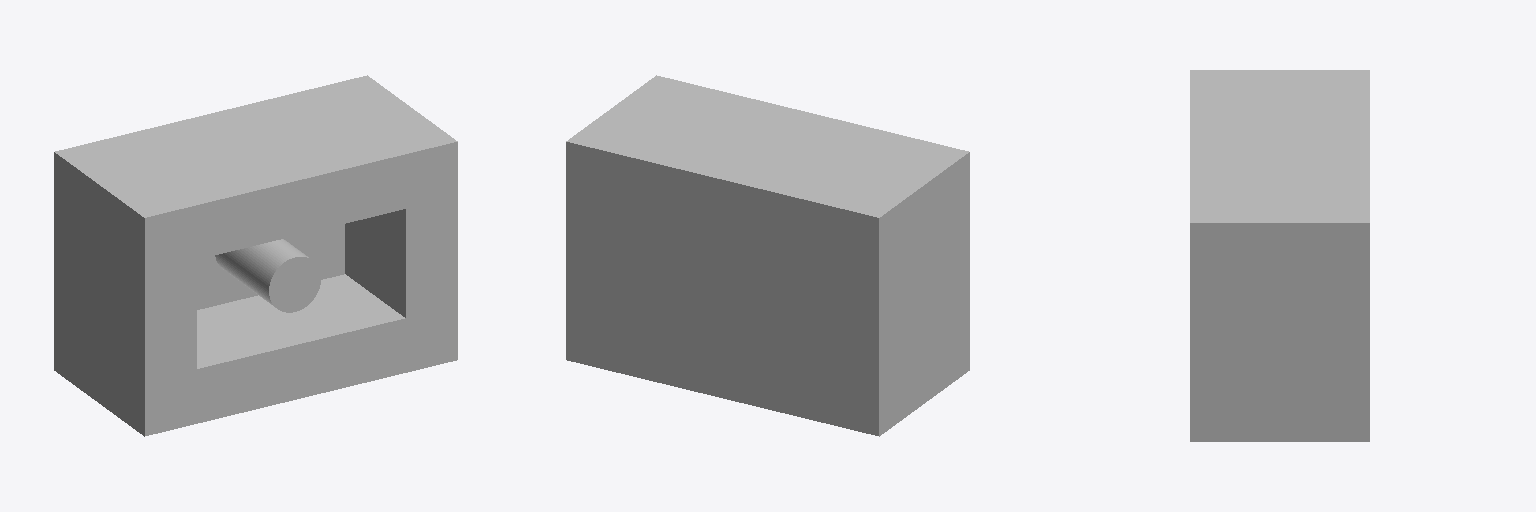
Rendered from tank.obj.
3 renders of one model, left to right at view 1: azimuth 30°, elevation 25°; view 2: azimuth 150°, elevation 25°; view 3: azimuth 270°, elevation 25°, orthographic.
Parts seen in each view (by area): view 1: tank; view 2: tank; view 3: tank.
Part boxes in pixels (left/top/right/bottom): tank: left=54, top=75, right=457, bottom=436; tank: left=566, top=75, right=969, bottom=436; tank: left=1190, top=70, right=1369, bottom=441.
Size of the model in its own units: 3 by 2 by 1.5.